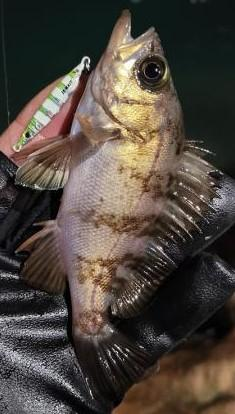fish: (8, 10, 222, 403)
